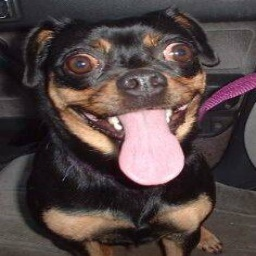dog: (22, 6, 220, 256)
